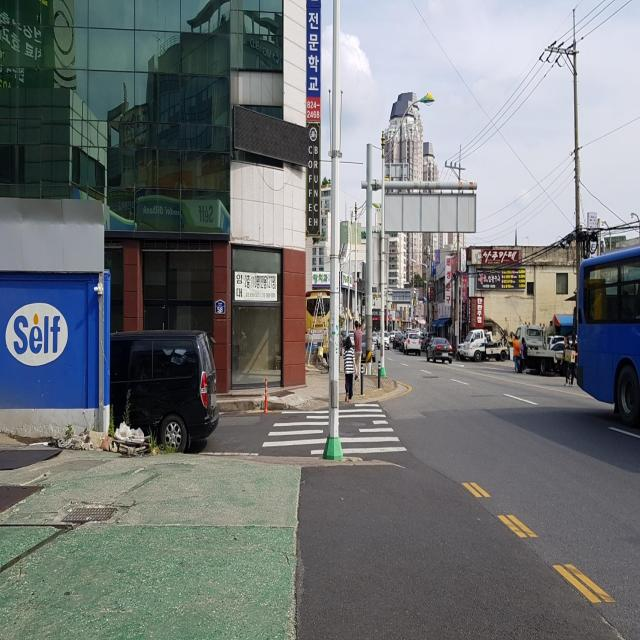횡단보도: (261, 403, 408, 456)
